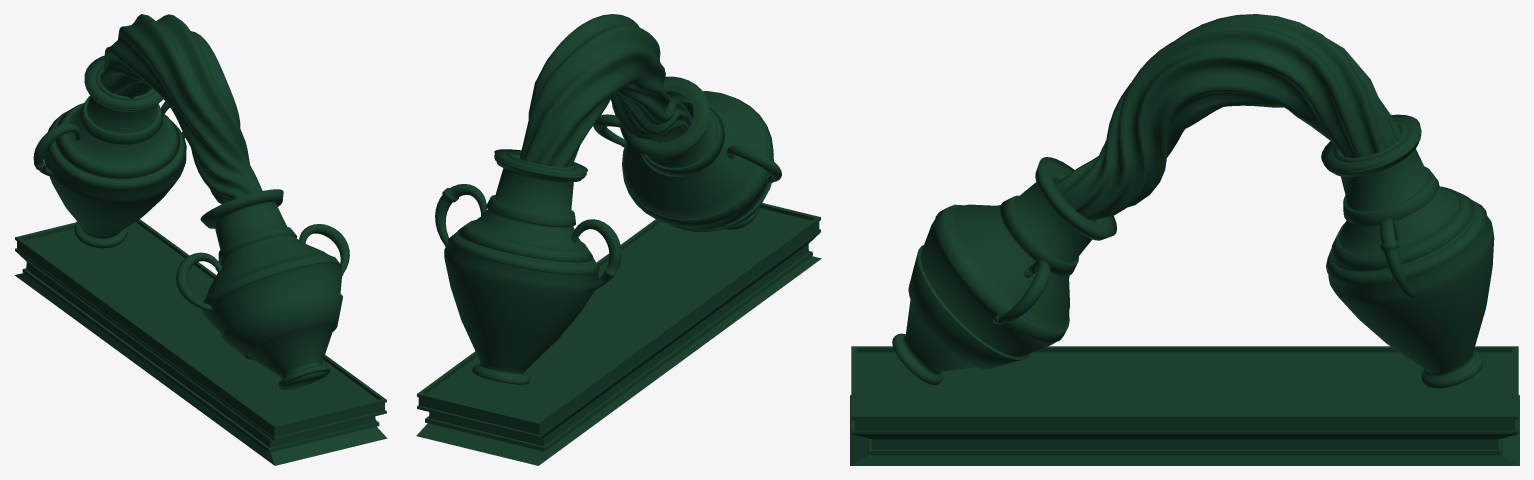
File: AMPHORE_lowpoly.fbx
3 views of the same model, side by side, from view 1: azimuth 30°, elevation 25°; view 2: azimuth 150°, elevation 25°; view 3: azimuth 270°, elevation 25° (orthographic). The views are drawn at different scales.
Visible parts, largest first — view 1: Cube; view 2: Cube; view 3: Cube.
Boxes of the visible parts, x1,y1,x2,y2 form: Cube: (14,14,387,465); Cube: (416,14,821,465); Cube: (850,14,1519,465).
Bounding box in the file's own units: 305 × 539 × 805.
